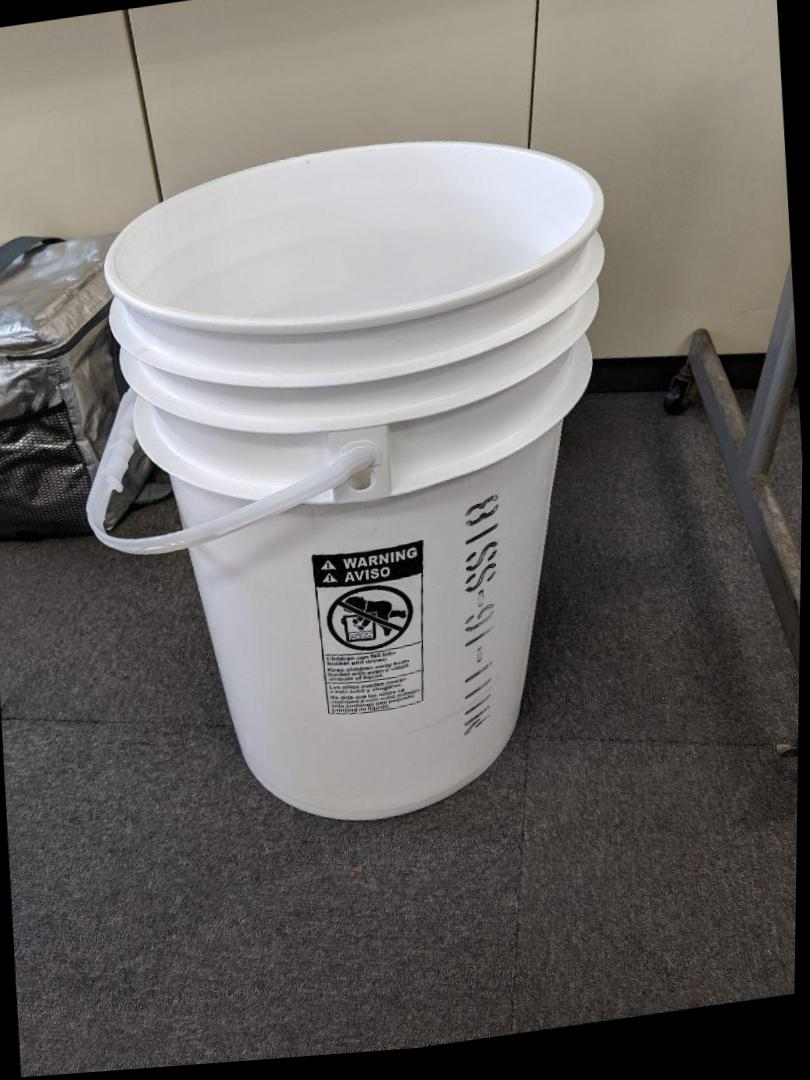plastic: (43, 97, 647, 870)
